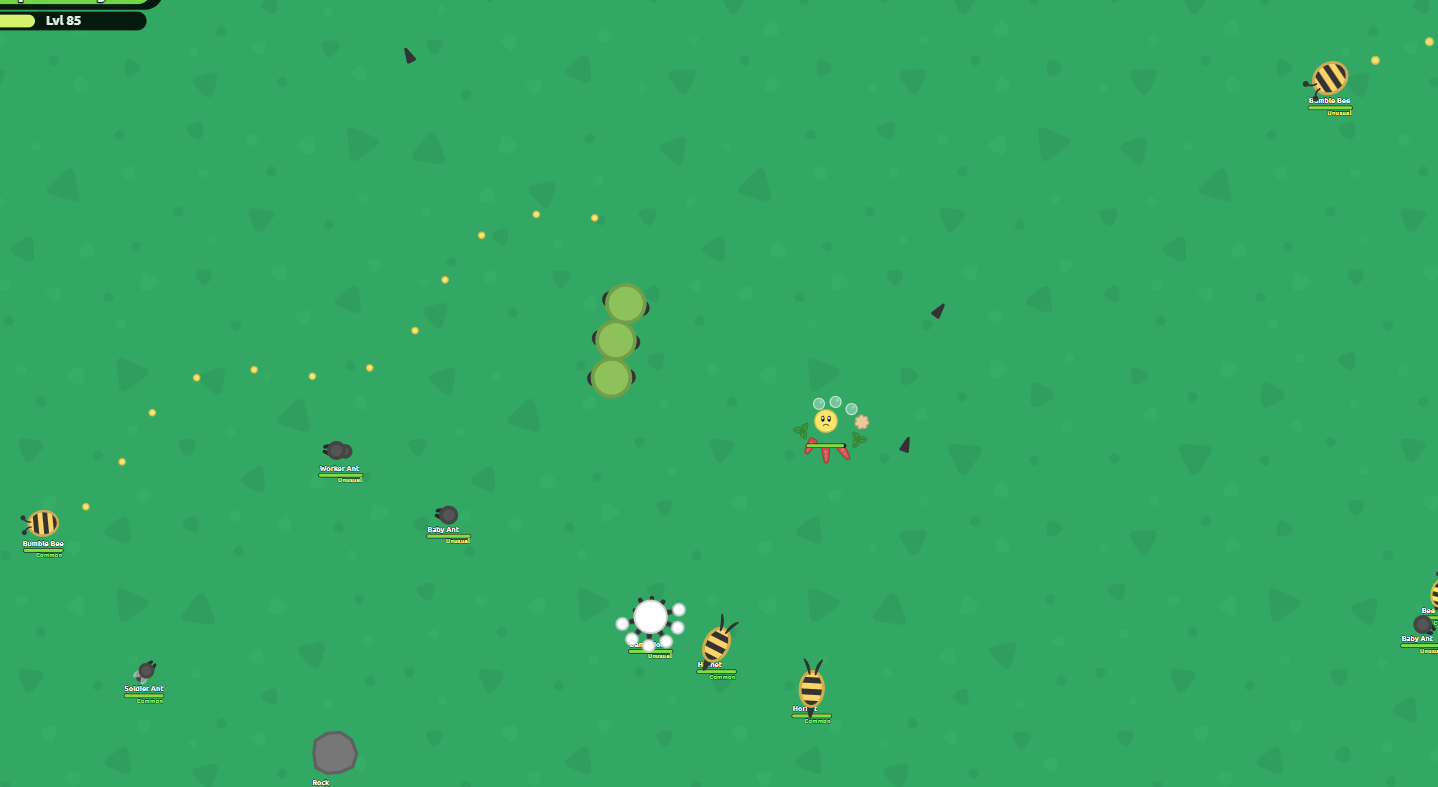Baby Ant: (432, 503, 460, 528), (1412, 613, 1437, 638)
Bee: (1428, 572, 1438, 615)
Bumble Bee: (1311, 60, 1350, 97), (23, 508, 61, 539)
Centipede: (585, 358, 638, 400), (599, 284, 652, 323), (590, 321, 641, 359)
Dandelion: (615, 593, 686, 654)
Hornet: (700, 625, 733, 673), (797, 668, 827, 719)
Rock: (310, 730, 359, 777)
Soldier Ant: (133, 658, 157, 686)
Worker Ant: (321, 439, 355, 462)
